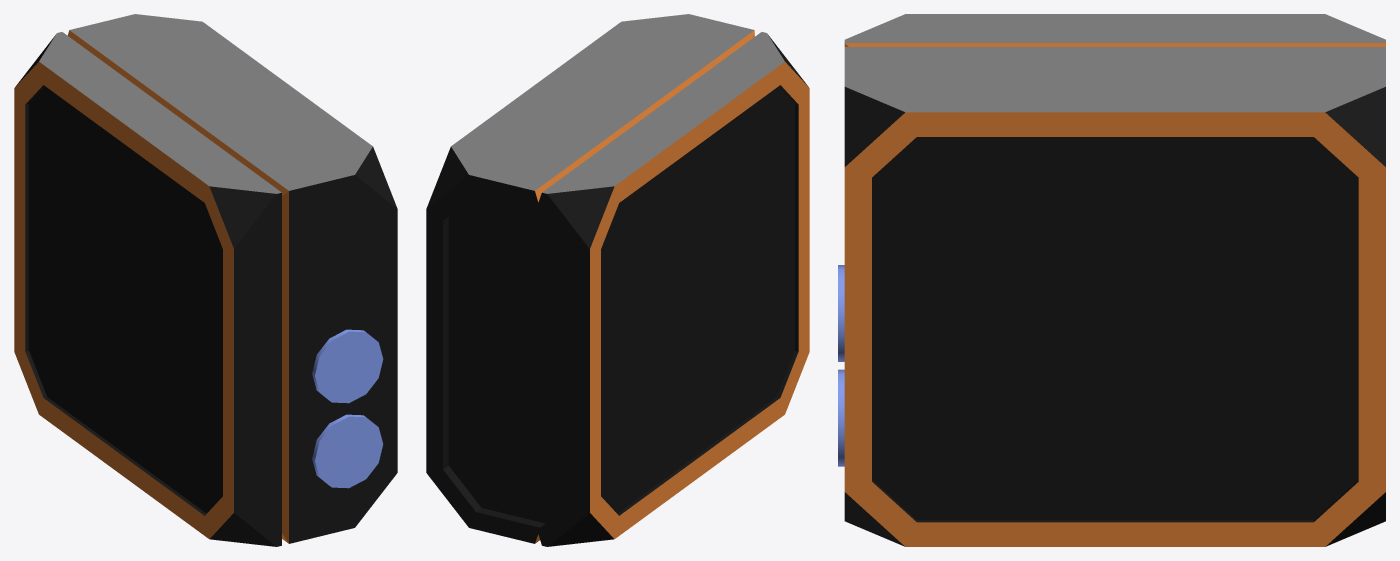
The picture shows the model from 3 angles, left to right: view 1: azimuth 30°, elevation 25°; view 2: azimuth 150°, elevation 25°; view 3: azimuth 270°, elevation 25°; orthographic projection. The views are drawn at different scales.
Visible parts, largest first — view 1: pc2; view 2: pc2; view 3: pc2.
Part boxes in pixels (x1,y1,x2,y2): pc2: (14,14,397,546); pc2: (426,14,809,546); pc2: (838,14,1385,546).
Bounding box in the file's own units: 18.47 × 38.08 × 43.51.
